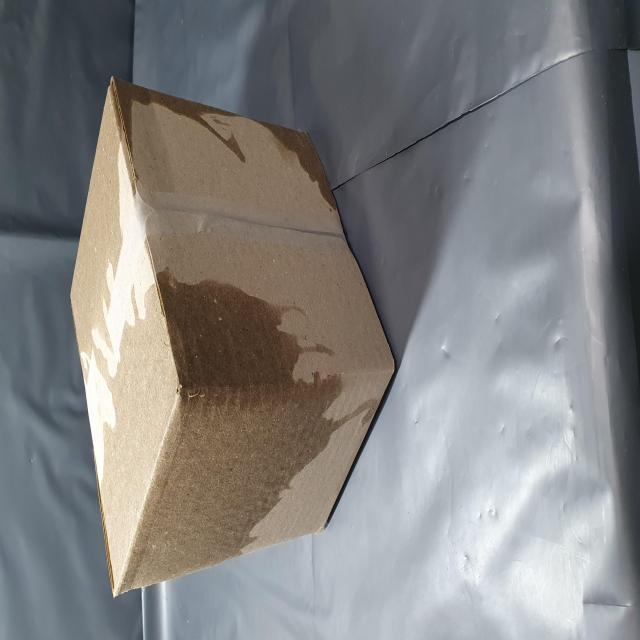wet: (24, 117, 315, 640)
